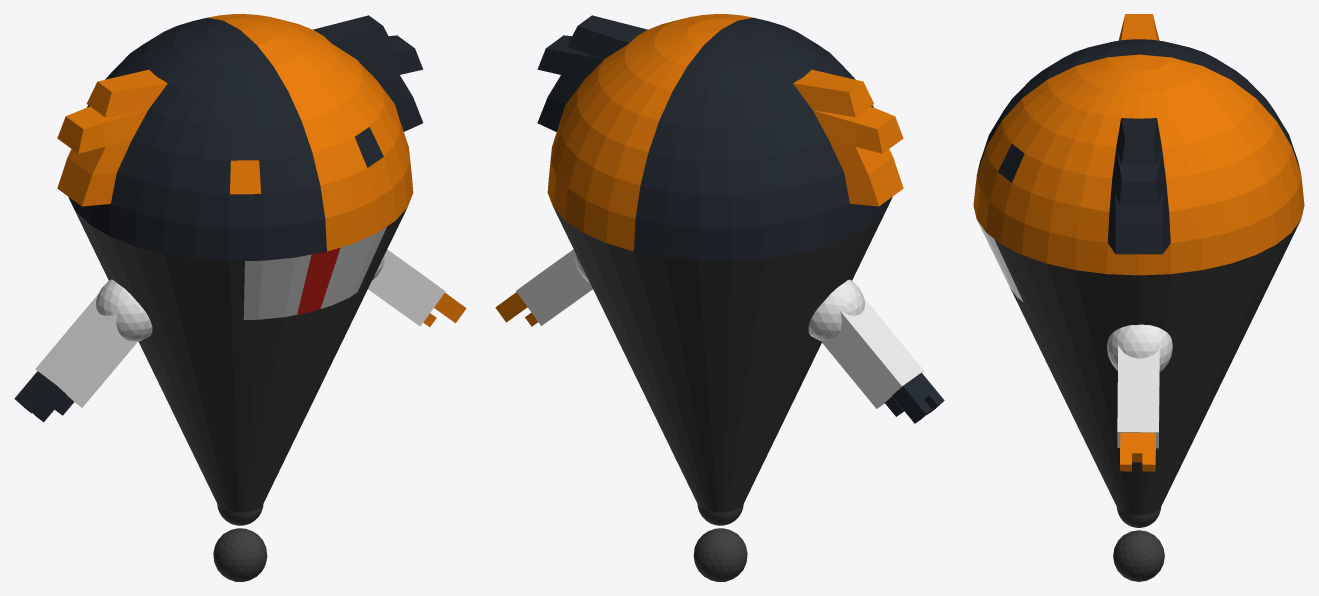
The model's file is DimBot(Clyde).fbx.
3 renders of one model, left to right at view 1: azimuth 30°, elevation 25°; view 2: azimuth 150°, elevation 25°; view 3: azimuth 270°, elevation 25°, orthographic. The views are drawn at different scales.
Parts seen in each view (by area): view 1: Cylinder.001; view 2: Cylinder.001; view 3: Cylinder.001.
Part boxes in pixels (<box>): Cylinder.001: <box>14,14,466,581</box>; Cylinder.001: <box>495,14,944,581</box>; Cylinder.001: <box>973,14,1304,581</box>.
Size of the model in its own units: 474 by 576 by 329.
